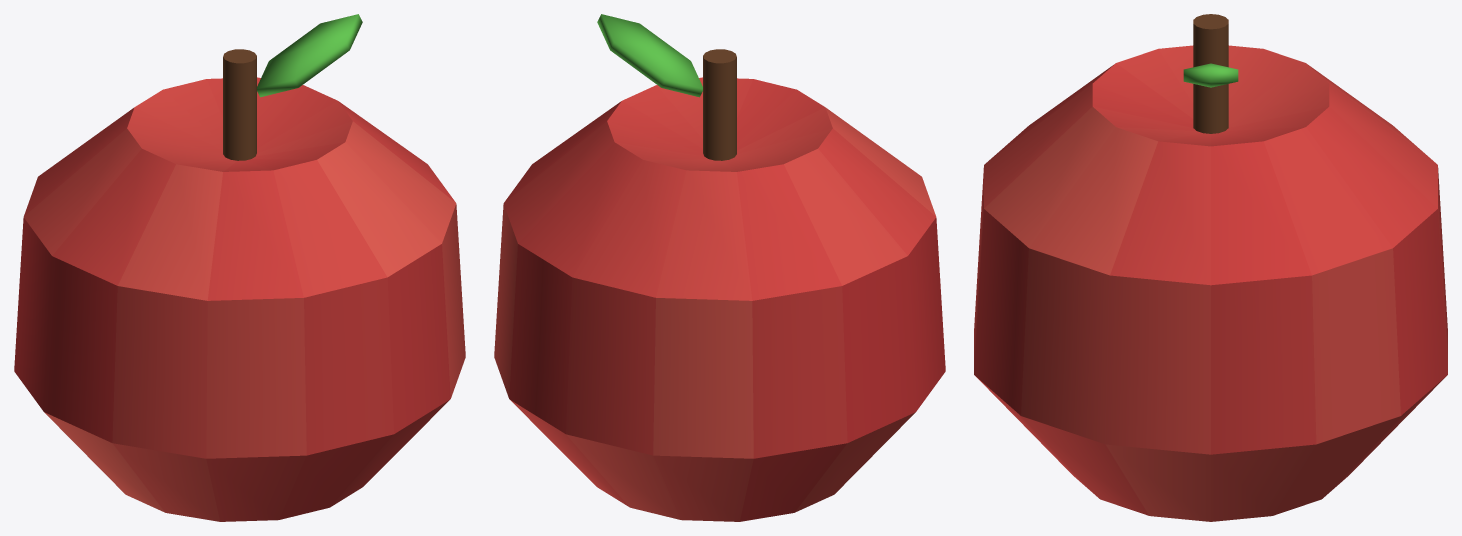
Rendered from apple.glb.
3 views of the same model, side by side, from view 1: azimuth 30°, elevation 25°; view 2: azimuth 150°, elevation 25°; view 3: azimuth 270°, elevation 25° (orthographic). The views are drawn at different scales.
Parts seen in each view (by area): view 1: apple, apple_leaf, apple_stalk; view 2: apple, apple_leaf, apple_stalk; view 3: apple, apple_stalk, apple_leaf.
Part boxes in pixels (x1,y1,x2,y2): apple: [14, 77, 465, 521]; apple_leaf: [257, 14, 362, 97]; apple_stalk: [223, 49, 256, 160]; apple: [494, 77, 945, 521]; apple_leaf: [597, 14, 702, 97]; apple_stalk: [703, 49, 736, 160]; apple: [974, 45, 1447, 521]; apple_stalk: [1193, 14, 1228, 133]; apple_leaf: [1183, 63, 1238, 87].
Size of the model in its own units: 0.24 by 0.2478 by 0.234.
